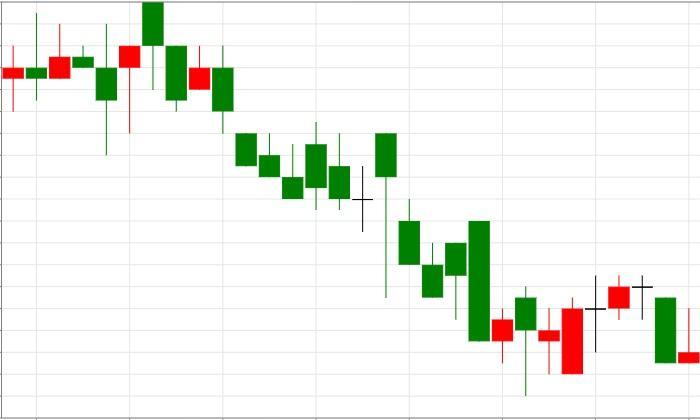evening_star_fall: (538, 275, 676, 374)
